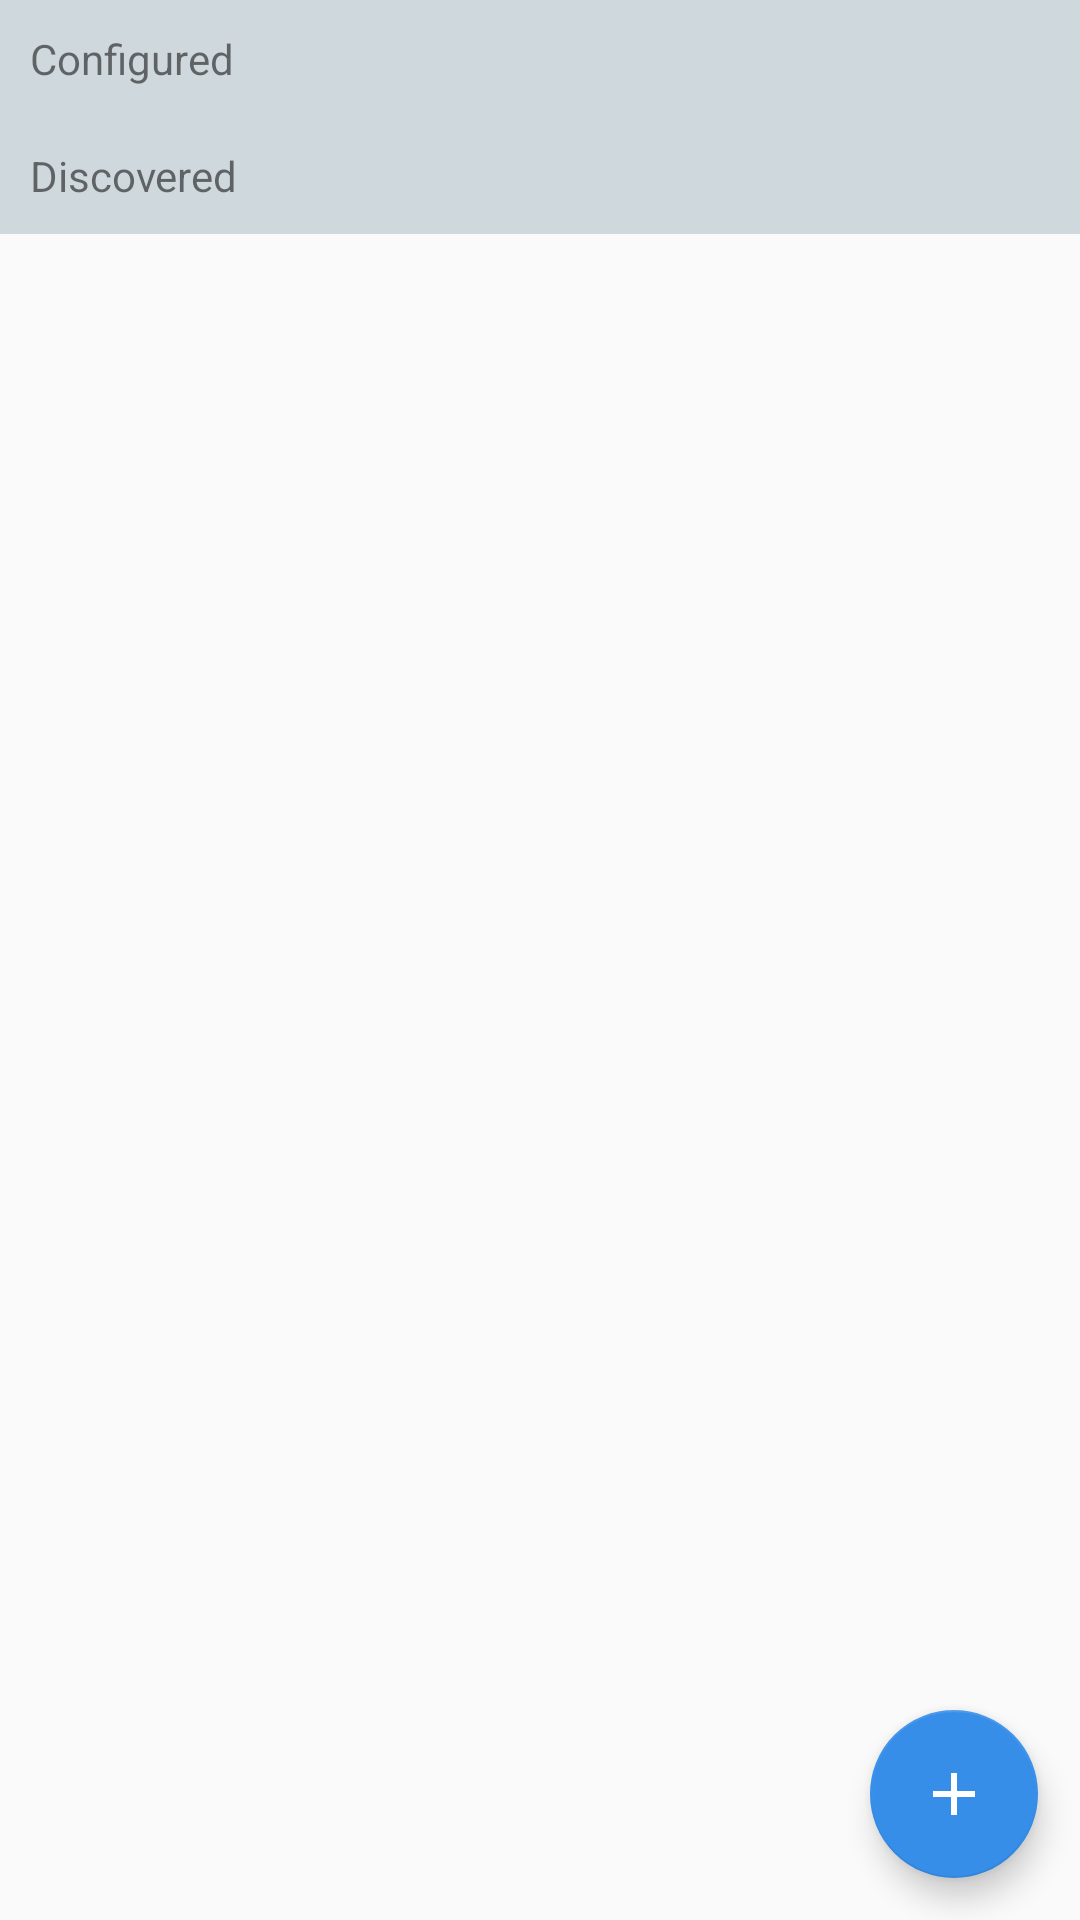

Icons on this 1080 x 1920 Android screen, each with its box as (x1, y1, x2, y2):
add: (870, 1710, 1038, 1878)
